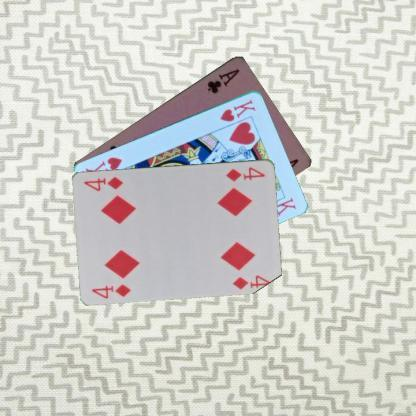4d: (224, 164, 266, 183), (90, 281, 132, 300)
Ac: (203, 66, 241, 96)
Kh: (217, 98, 257, 122)
